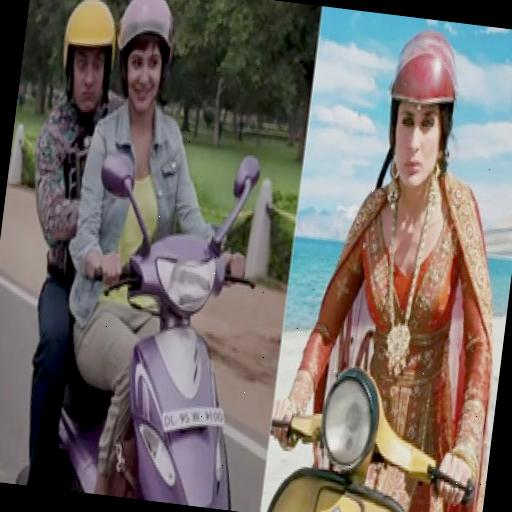helmet: (45, 0, 297, 506), (270, 10, 512, 512)
